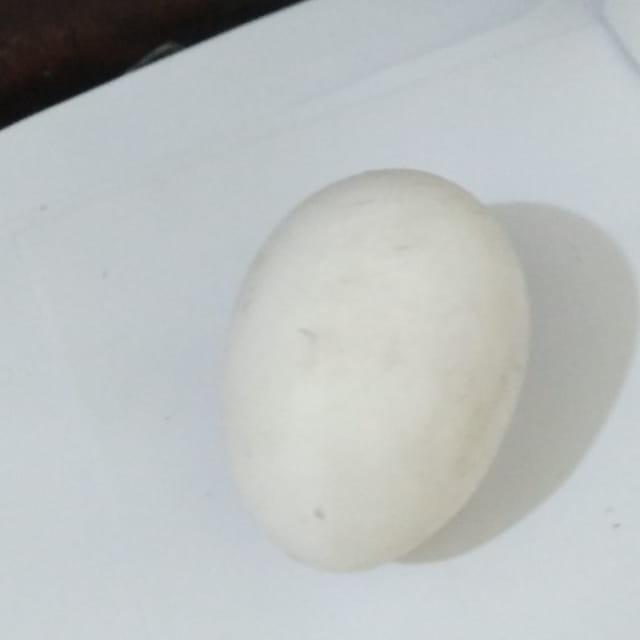egg: (218, 163, 535, 574)
